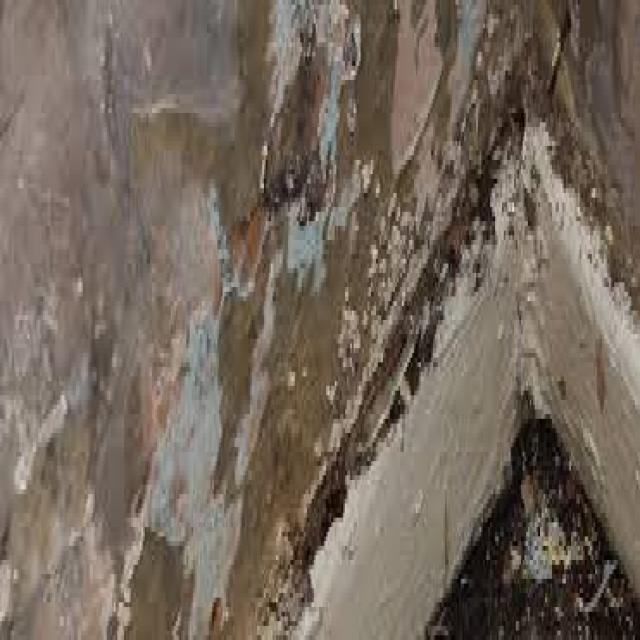dampness: (4, 1, 639, 637)
